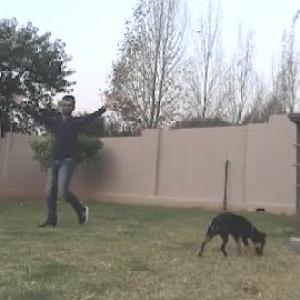takeoff: (32, 96, 151, 226)
